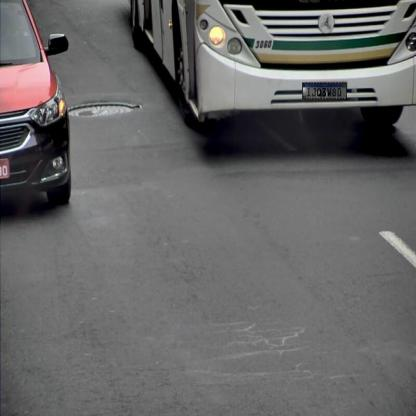PlacaM: (302, 83, 347, 99)
